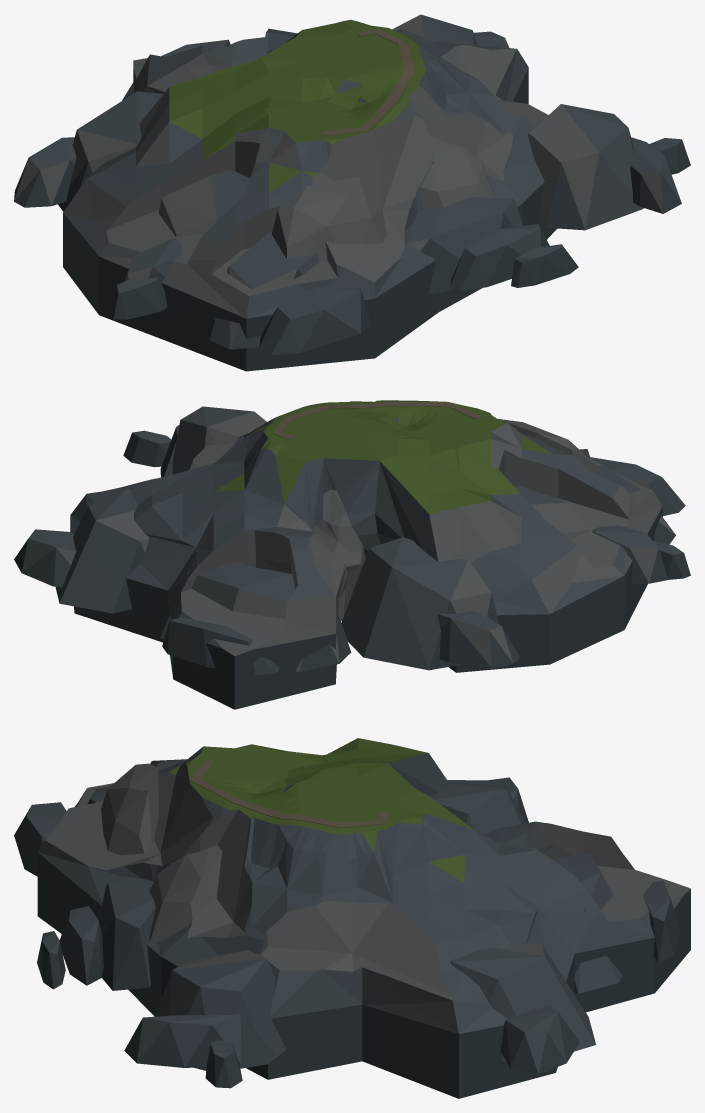
Rendered from island_c.glb.
3 renders of one model, top to bottom at view 1: azimuth 30°, elevation 25°; view 2: azimuth 150°, elevation 25°; view 3: azimuth 270°, elevation 25°, orthographic. The views are drawn at different scales.
Parts seen in each view (by area): view 1: island_c_Coast short olive grass, island_c_Coast blue grey bedrock, island_c_Coast weathered stone footpath; view 2: island_c_Coast short olive grass, island_c_Coast blue grey bedrock, island_c_Coast weathered stone footpath; view 3: island_c_Coast short olive grass, island_c_Coast blue grey bedrock, island_c_Coast weathered stone footpath.
Boxes of the visible parts, x1,y1,x2,y2 form: island_c_Coast short olive grass: [63, 19, 556, 371]; island_c_Coast blue grey bedrock: [14, 14, 690, 355]; island_c_Coast weathered stone footpath: [320, 29, 414, 135]; island_c_Coast short olive grass: [70, 400, 662, 709]; island_c_Coast blue grey bedrock: [14, 406, 690, 675]; island_c_Coast weathered stone footpath: [272, 402, 481, 439]; island_c_Coast short olive grass: [37, 738, 690, 1098]; island_c_Coast blue grey bedrock: [14, 777, 681, 1088]; island_c_Coast weathered stone footpath: [190, 760, 390, 827].
Bounding box in the file's own units: 64.61 × 17.59 × 60.
